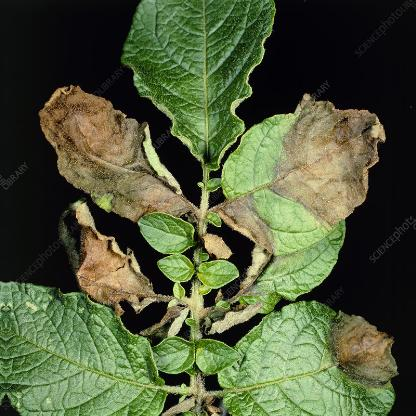Late-Blight: (34, 60, 192, 221), (257, 71, 389, 239), (51, 230, 194, 352), (237, 306, 407, 400)
